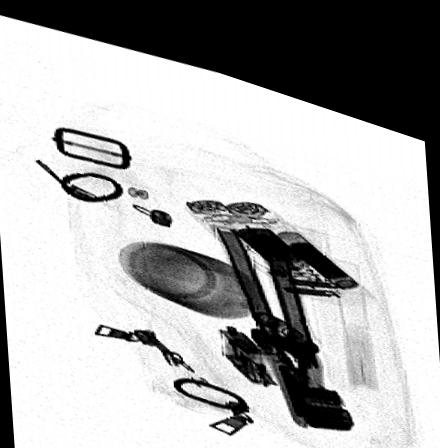Pliers: (214, 214, 359, 409)
